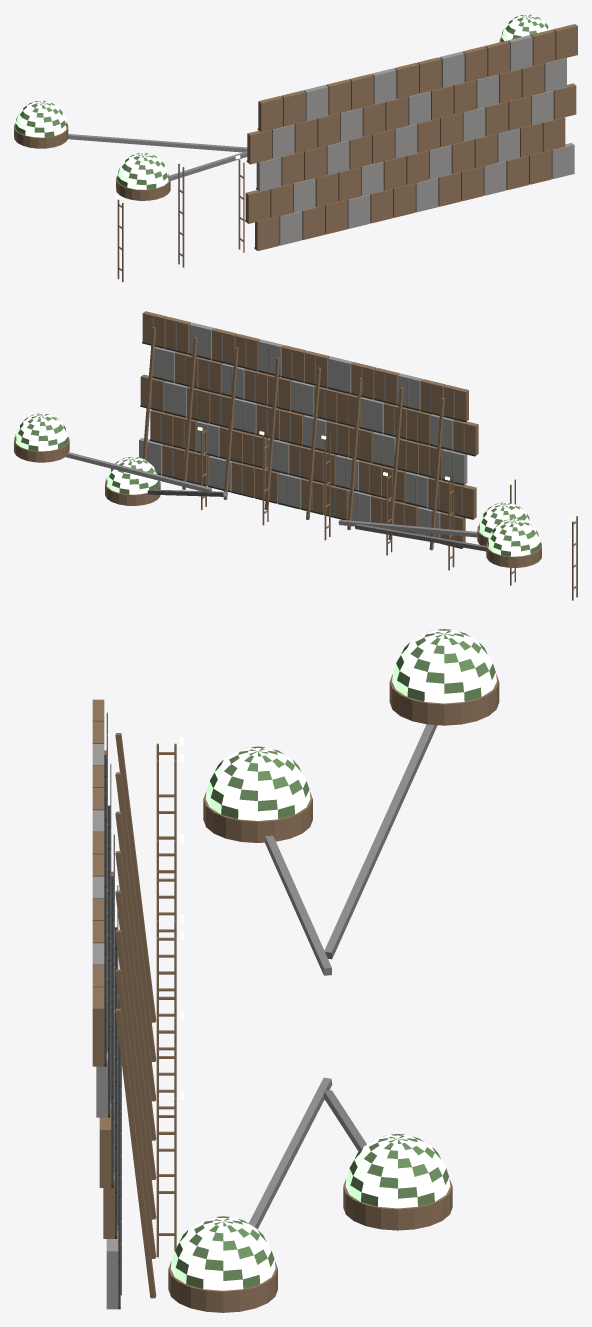
File: holdfast-surroundings.glb
3 views of the same model, one above another, from view 1: azimuth 30°, elevation 25°; view 2: azimuth 150°, elevation 25°; view 3: azimuth 270°, elevation 25° (orthographic). The views are drawn at different scales.
Parts seen in each view (by area): view 1: vantor_s0; view 2: vantor_s0; view 3: vantor_s0.
Boxes of the visible parts, x1,y1,x2,y2 form: vantor_s0: (14, 14, 577, 282); vantor_s0: (14, 311, 577, 600); vantor_s0: (92, 629, 499, 1312).
Bounding box in the file's own units: 207 × 61 × 69.8.
